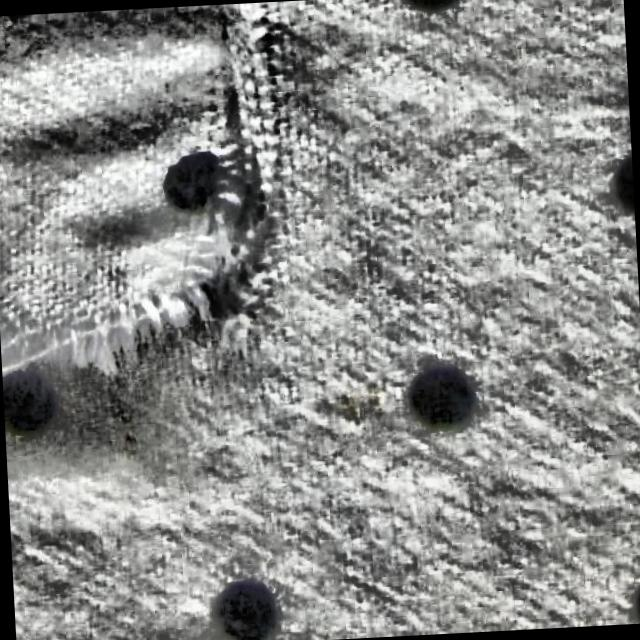baekra: (0, 256, 294, 377), (192, 2, 290, 257)
